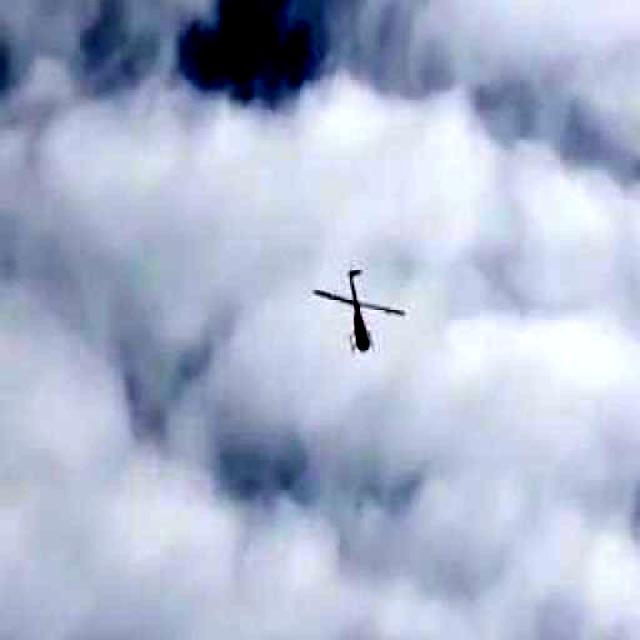drone: (280, 250, 424, 384)
